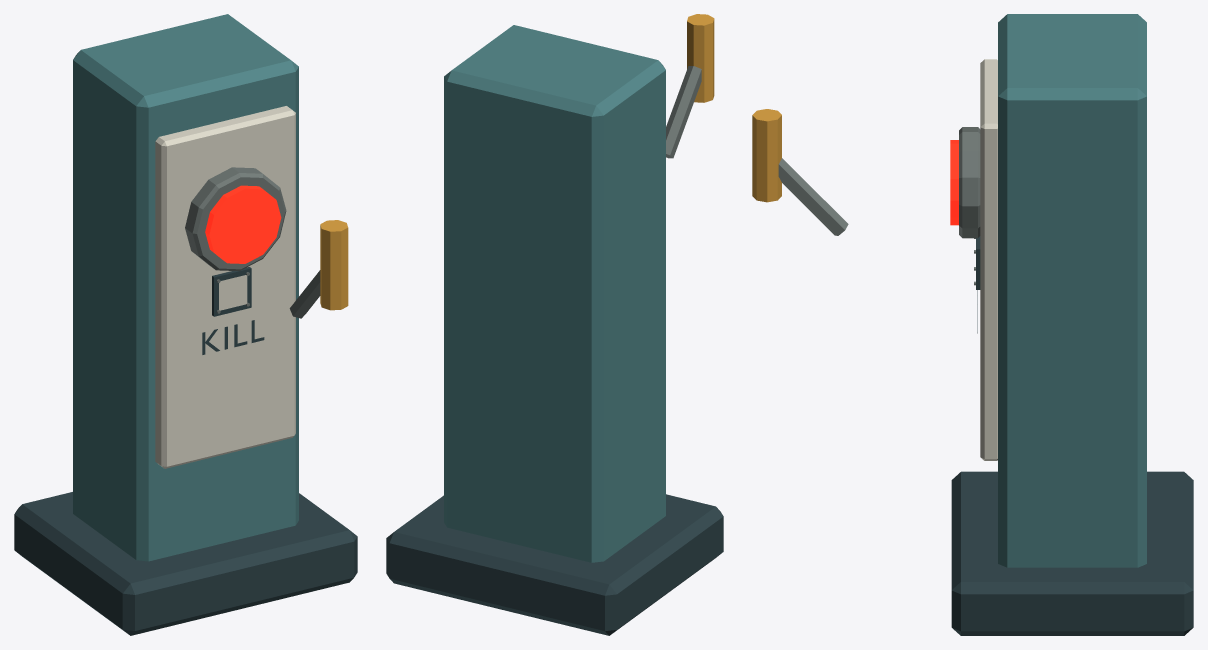
File: core-kill-switch.glb
3 renders of one model, left to right at view 1: azimuth 30°, elevation 25°; view 2: azimuth 150°, elevation 25°; view 3: azimuth 270°, elevation 25°, orthographic. The views are drawn at different scales.
Parts seen in each view (by area): view 1: core-kill-switch__core-kill-switch__petrol, core-kill-switch__core-kill-switch__ivory, core-kill-switch__core-kill-switch__steel, core-kill-switch__core-kill-switch__danger-red, core-kill-switch__core-kill-switch__hardware, core-kill-switch__activation-lever__amber, core-kill-switch__core-kill-switch__decal-ivory, core-kill-switch__activation-lever__hardware; view 2: core-kill-switch__core-kill-switch__petrol, core-kill-switch__core-kill-switch__steel, core-kill-switch__activation-lever__amber, core-kill-switch__activation-lever__hardware; view 3: core-kill-switch__core-kill-switch__petrol, core-kill-switch__core-kill-switch__steel, core-kill-switch__core-kill-switch__ivory, core-kill-switch__activation-lever__amber, core-kill-switch__core-kill-switch__hardware, core-kill-switch__activation-lever__hardware, core-kill-switch__core-kill-switch__danger-red.
Boxes of the visible parts, bbox=[...] form: core-kill-switch__core-kill-switch__petrol: bbox=[73, 14, 298, 561]; core-kill-switch__core-kill-switch__ivory: bbox=[155, 106, 295, 468]; core-kill-switch__core-kill-switch__steel: bbox=[14, 267, 357, 635]; core-kill-switch__core-kill-switch__danger-red: bbox=[205, 185, 281, 263]; core-kill-switch__core-kill-switch__hardware: bbox=[185, 167, 286, 313]; core-kill-switch__activation-lever__amber: bbox=[320, 220, 348, 310]; core-kill-switch__core-kill-switch__decal-ivory: bbox=[219, 275, 247, 310]; core-kill-switch__activation-lever__hardware: bbox=[289, 270, 320, 318]; core-kill-switch__core-kill-switch__petrol: bbox=[444, 25, 665, 562]; core-kill-switch__core-kill-switch__steel: bbox=[386, 494, 723, 635]; core-kill-switch__activation-lever__amber: bbox=[687, 14, 714, 102]; core-kill-switch__activation-lever__hardware: bbox=[666, 66, 701, 158]; core-kill-switch__core-kill-switch__petrol: bbox=[998, 14, 1146, 567]; core-kill-switch__core-kill-switch__steel: bbox=[951, 236, 1193, 635]; core-kill-switch__core-kill-switch__ivory: bbox=[980, 59, 997, 460]; core-kill-switch__activation-lever__amber: bbox=[752, 109, 781, 202]; core-kill-switch__core-kill-switch__hardware: bbox=[959, 127, 980, 285]; core-kill-switch__activation-lever__hardware: bbox=[778, 158, 848, 235]; core-kill-switch__core-kill-switch__danger-red: bbox=[950, 140, 958, 225].
Bounding box in the file's own units: 0.75 × 1.57 × 1.18.
